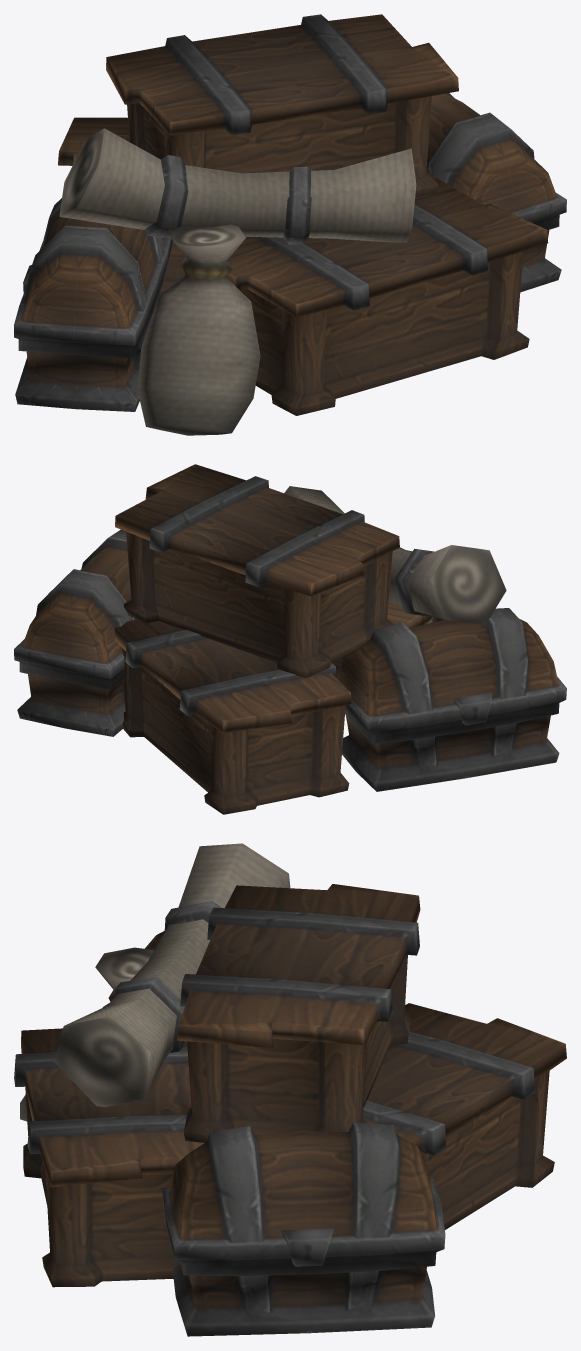
File: moba_muxiang_01.FBX
3 renders of one model, top to bottom at view 1: azimuth 30°, elevation 25°; view 2: azimuth 150°, elevation 25°; view 3: azimuth 270°, elevation 25°, orthographic. The views are drawn at different scales.
Visible parts, largest first — view 1: Object009; view 2: Object009; view 3: Object009.
Part boxes in pixels (bbox=[...]): Object009: bbox=[14, 14, 566, 435]; Object009: bbox=[14, 464, 566, 814]; Object009: bbox=[14, 843, 566, 1336].
Bounding box in the file's own units: 31.44 × 13.73 × 25.15.
